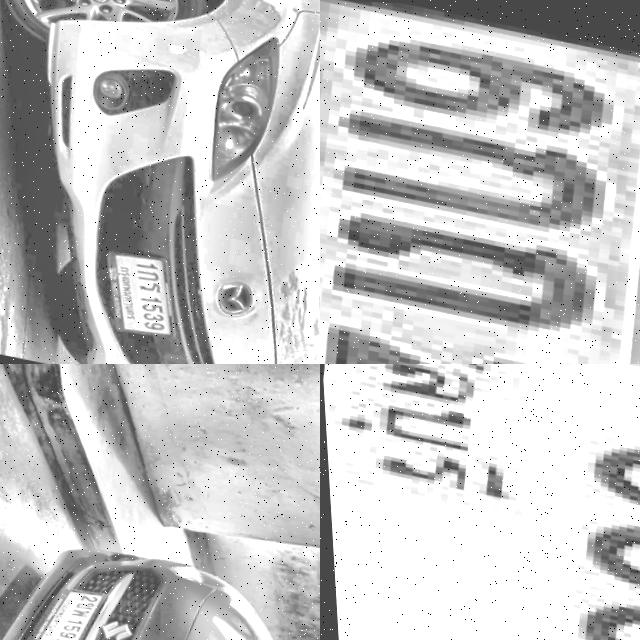license-plate: (320, 0, 640, 364), (320, 364, 640, 640), (90, 240, 181, 338), (23, 574, 110, 640)
